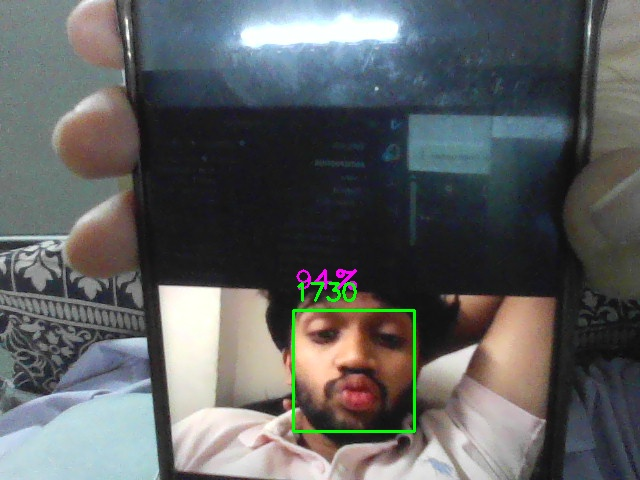fake: (293, 310, 415, 432)
